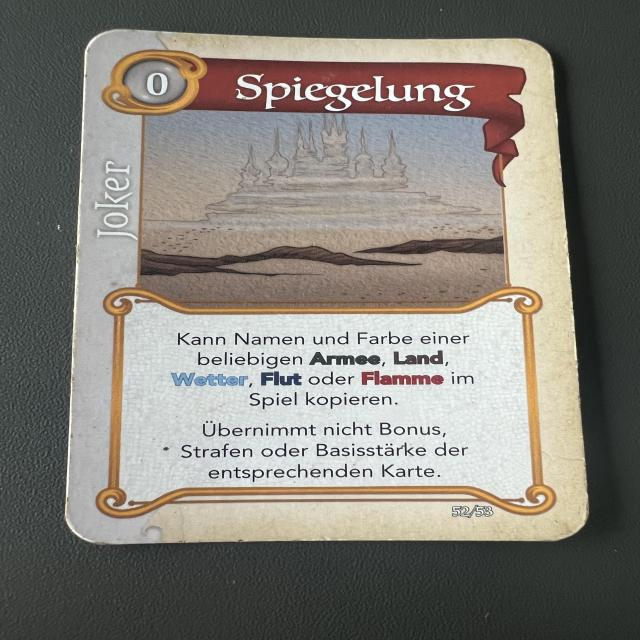Mirage: (60, 31, 590, 545)
